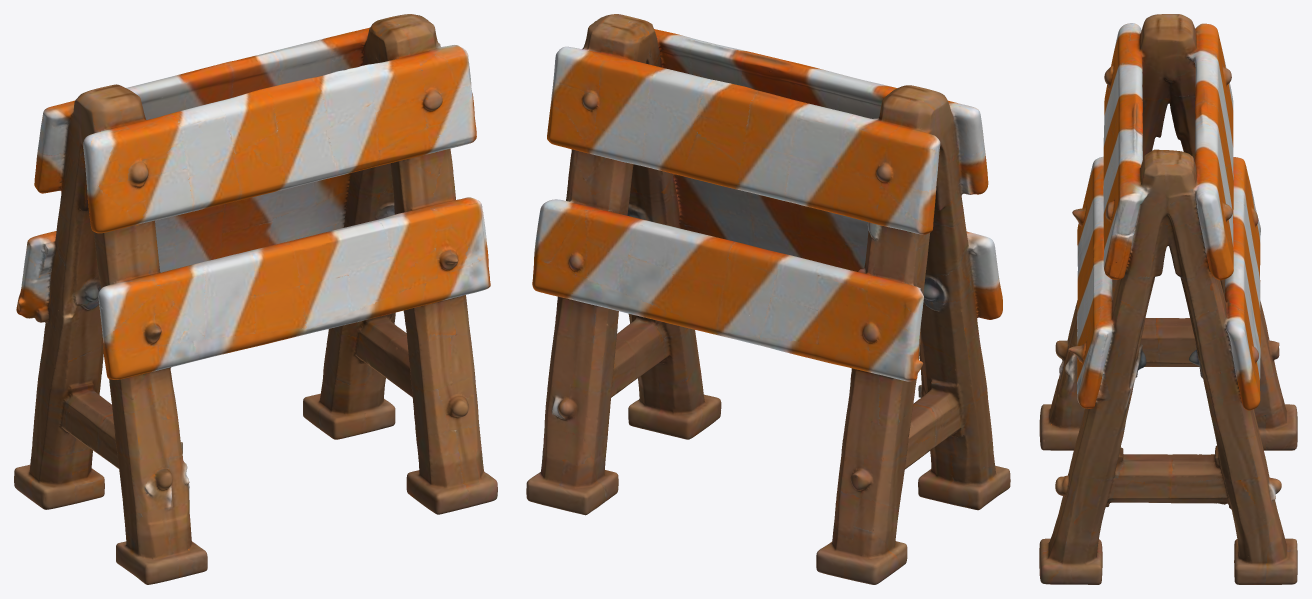
Rendered from road-barrier.glb.
3 renders of one model, left to right at view 1: azimuth 30°, elevation 25°; view 2: azimuth 150°, elevation 25°; view 3: azimuth 270°, elevation 25°, orthographic. The views are drawn at different scales.
Size of the model in its own units: 1.85 by 2 by 1.13.
Materials: 1 (1 with a texture image).
